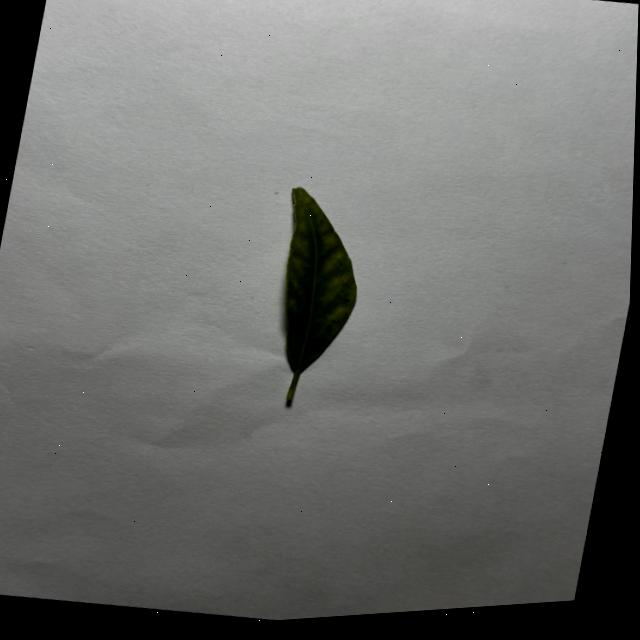greening: (285, 188, 357, 405)
